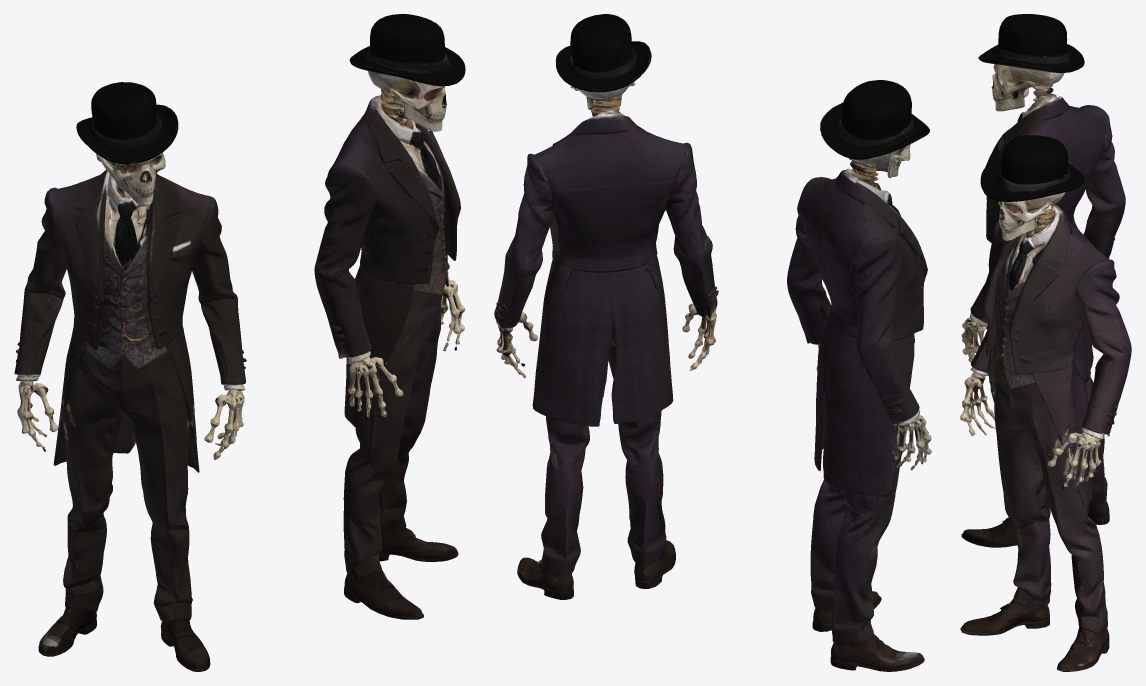
The model's file is baron_viktor_fullbody.glb.
The picture shows the model from 3 angles, left to right: view 1: azimuth 30°, elevation 25°; view 2: azimuth 150°, elevation 25°; view 3: azimuth 270°, elevation 25°; orthographic projection. The views are drawn at different scales.
Visible parts, largest first — view 1: world; view 2: world; view 3: world.
Part boxes in pixels (left/top/right/bottom): world: left=14, top=14, right=465, bottom=671; world: left=494, top=14, right=931, bottom=671; world: left=960, top=14, right=1131, bottom=671.
Bounding box in the file's own units: 1.63 × 1.99 × 0.6133.
Materials: 1 (1 with a texture image).
